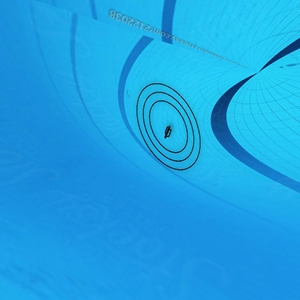circle: (134, 79, 204, 171)
submarine: (163, 127, 170, 137)
